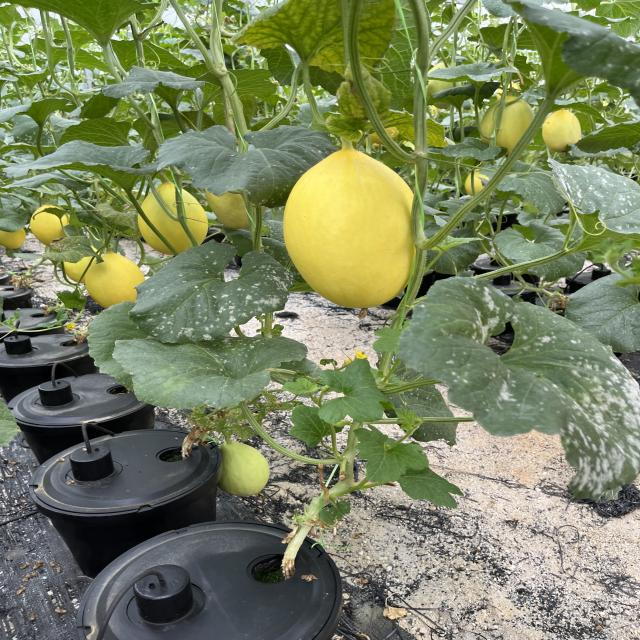CMV: (230, 0, 398, 78), (0, 0, 159, 43), (338, 59, 390, 122)
alternaria leaf blight: (41, 235, 106, 265)
downy mildew: (497, 0, 640, 98)
healthy: (1, 140, 162, 188), (495, 222, 589, 280), (318, 358, 394, 423), (354, 423, 430, 484), (394, 466, 466, 509), (289, 404, 345, 448)
powdery mildew: (396, 275, 640, 500), (130, 238, 296, 344), (153, 123, 343, 209), (110, 336, 310, 410), (544, 157, 640, 249)
